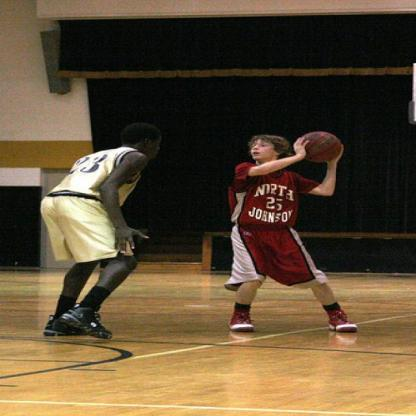basketball: (296, 130, 340, 161)
